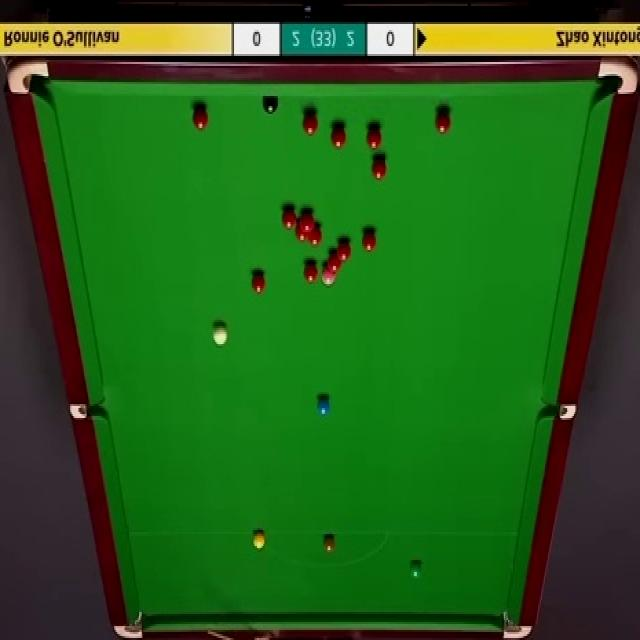black-ball: (264, 96, 282, 115)
blue-ball: (316, 398, 331, 415)
brown-ball: (323, 530, 336, 552)
green-ball: (410, 565, 422, 581)
pink-ball: (322, 266, 336, 286)
red-ball: (436, 105, 452, 136), (307, 221, 324, 247), (371, 154, 387, 181), (302, 112, 320, 136), (331, 124, 346, 152), (191, 107, 208, 131), (280, 206, 297, 230), (252, 270, 265, 294), (300, 210, 314, 232), (368, 127, 382, 149), (337, 238, 350, 260), (295, 222, 309, 241), (327, 254, 341, 273), (362, 232, 376, 250), (303, 264, 316, 283)
white-ball: (213, 322, 227, 347)
yellow-ball: (253, 530, 265, 550)
